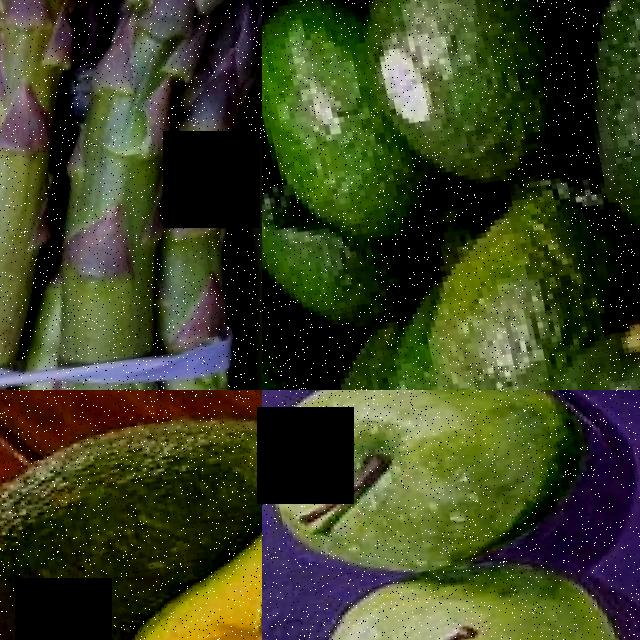apple: (262, 390, 609, 608), (308, 524, 640, 640), (580, 426, 589, 431)
asparagus: (44, 102, 180, 379), (161, 0, 262, 229), (0, 0, 101, 121)
avocado: (335, 0, 630, 217), (389, 164, 640, 390), (0, 392, 202, 640), (262, 0, 409, 257), (552, 0, 640, 311), (58, 561, 262, 640)
